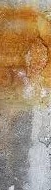Corrosion: (1, 4, 51, 117)
